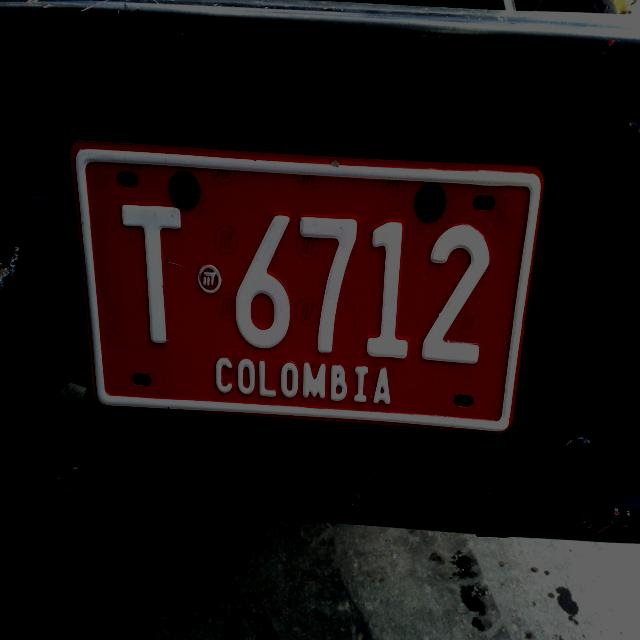placa: (59, 124, 546, 440)
